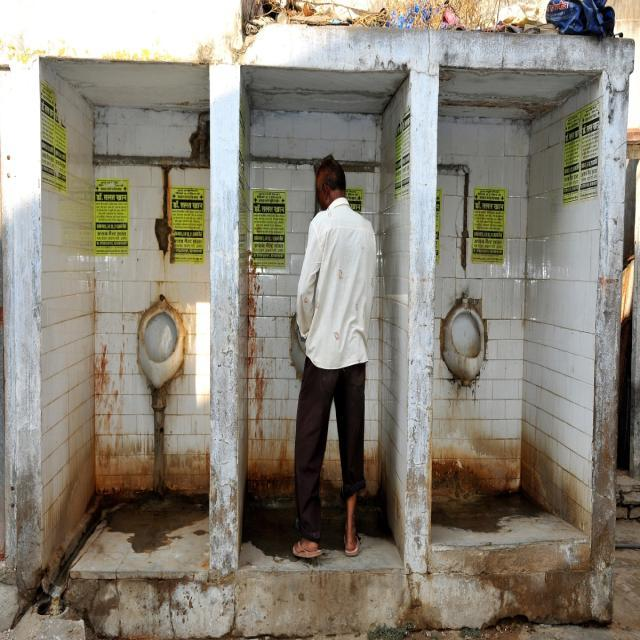dirty_floor: (26, 69, 630, 628), (11, 474, 638, 637), (238, 68, 410, 564), (288, 152, 379, 559), (99, 489, 208, 555)
